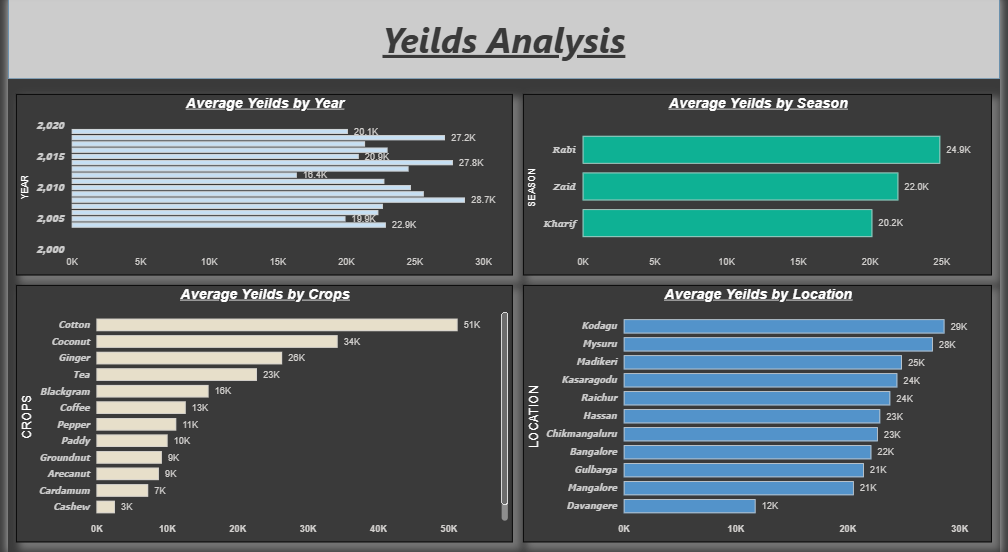

The dashboard page shown, as its layout file describes it:
{"tool":"powerbi","page":{"name":"Yeilds Analysis","canvas":[1280,720],"ordinal":3},"visuals":[{"type":"shape","box":[0,0,1279.8,107.3],"z":0},{"type":"barChart","title":"Average Yeilds by Year","fields":{"Category":["AGRICULTURE.YEAR"],"Y":["Sum(AGRICULTURE.YEILDS)"]},"box":[10.3,126.4,640.7,233.6],"z":1000},{"type":"barChart","title":"Average Yeilds by Season","fields":{"Category":["AGRICULTURE.SEASON"],"Y":["Sum(AGRICULTURE.YEILDS)"]},"box":[664.2,126.4,605.4,233.6],"z":2000},{"type":"barChart","title":"Average Yeilds by Crops","fields":{"Category":["AGRICULTURE.CROPS"],"Y":["Sum(AGRICULTURE.YEILDS)"]},"box":[10.3,373.2,640.7,332.1],"z":3000},{"type":"barChart","title":"Average Yeilds by Location","fields":{"Category":["AGRICULTURE.LOCATION"],"Y":["Sum(AGRICULTURE.YEILDS)"]},"box":[664.2,373.2,605.4,332.1],"z":4000}]}

Visuals, with their boxes in screenshot pixels (x1, y1, x2, y2), scaled from the page's 1280x720 canvas onto the 1008x552 screenshot:
shape: <region>0, 0, 1007, 82</region>
"Average Yeilds by Year" barChart: <region>8, 97, 513, 276</region>
"Average Yeilds by Season" barChart: <region>523, 97, 1000, 276</region>
"Average Yeilds by Crops" barChart: <region>8, 286, 513, 541</region>
"Average Yeilds by Location" barChart: <region>523, 286, 1000, 541</region>
